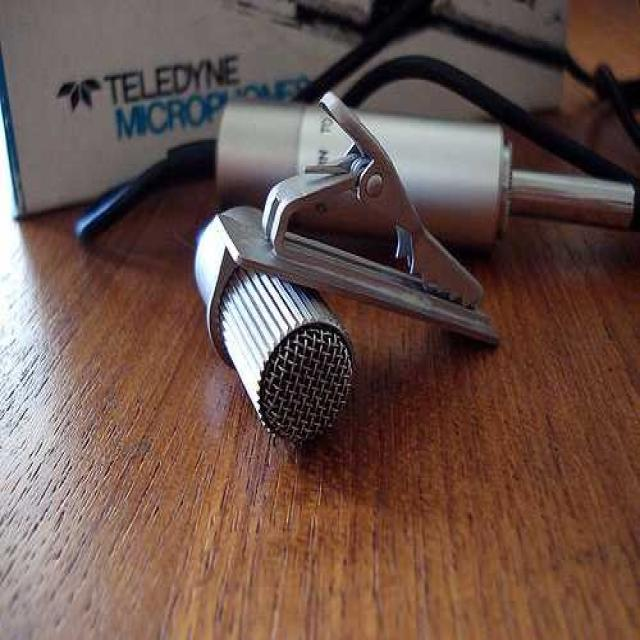microphone: (198, 91, 638, 444)
